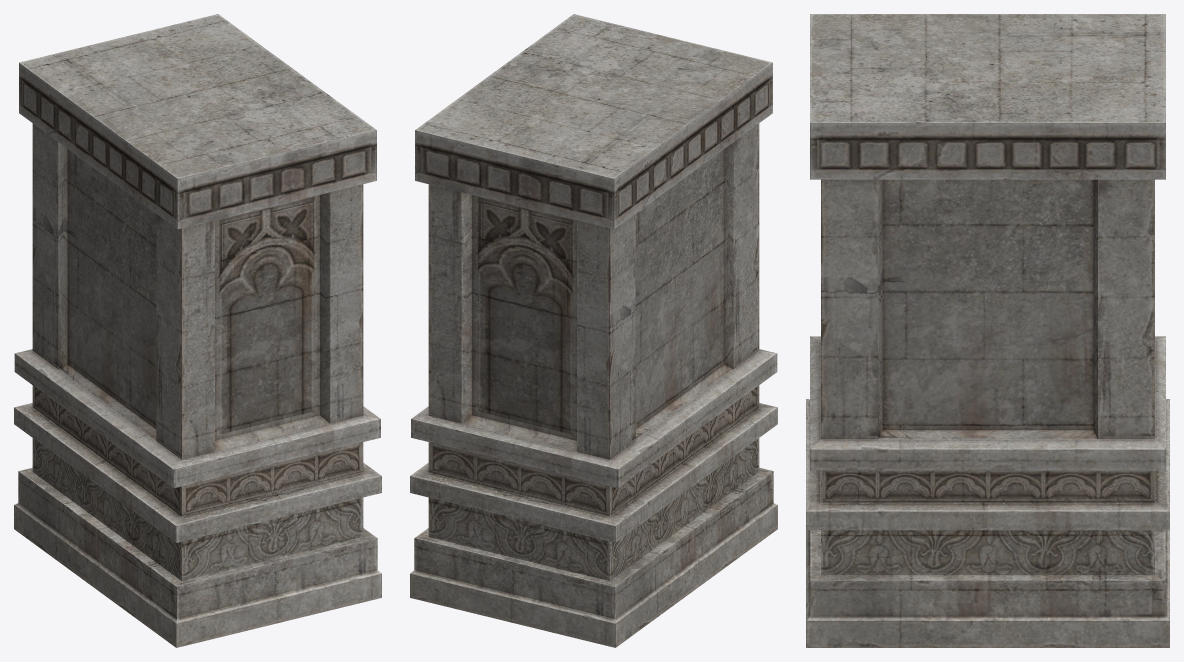
The model's file is bg_lut_lucastle_churchtower10_sm_ksh.FBX.
3 renders of one model, left to right at view 1: azimuth 30°, elevation 25°; view 2: azimuth 150°, elevation 25°; view 3: azimuth 270°, elevation 25°, orthographic. The views are drawn at different scales.
Parts seen in each view (by area): view 1: bg_lut_lucastle_churchtower10_sm_ksh; view 2: bg_lut_lucastle_churchtower10_sm_ksh; view 3: bg_lut_lucastle_churchtower10_sm_ksh.
Boxes of the visible parts, box(x1,y1,x2,y2) form: bg_lut_lucastle_churchtower10_sm_ksh: box(14, 14, 381, 647); bg_lut_lucastle_churchtower10_sm_ksh: box(410, 14, 777, 647); bg_lut_lucastle_churchtower10_sm_ksh: box(806, 14, 1169, 647).
Size of the model in its own units: 162 by 348 by 219.
